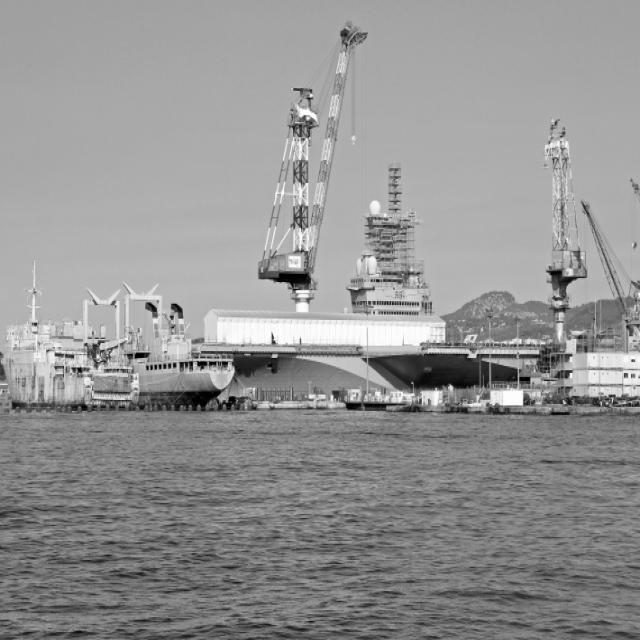Portanaves: (172, 321, 548, 408), (1, 413, 165, 449), (111, 413, 166, 424)
